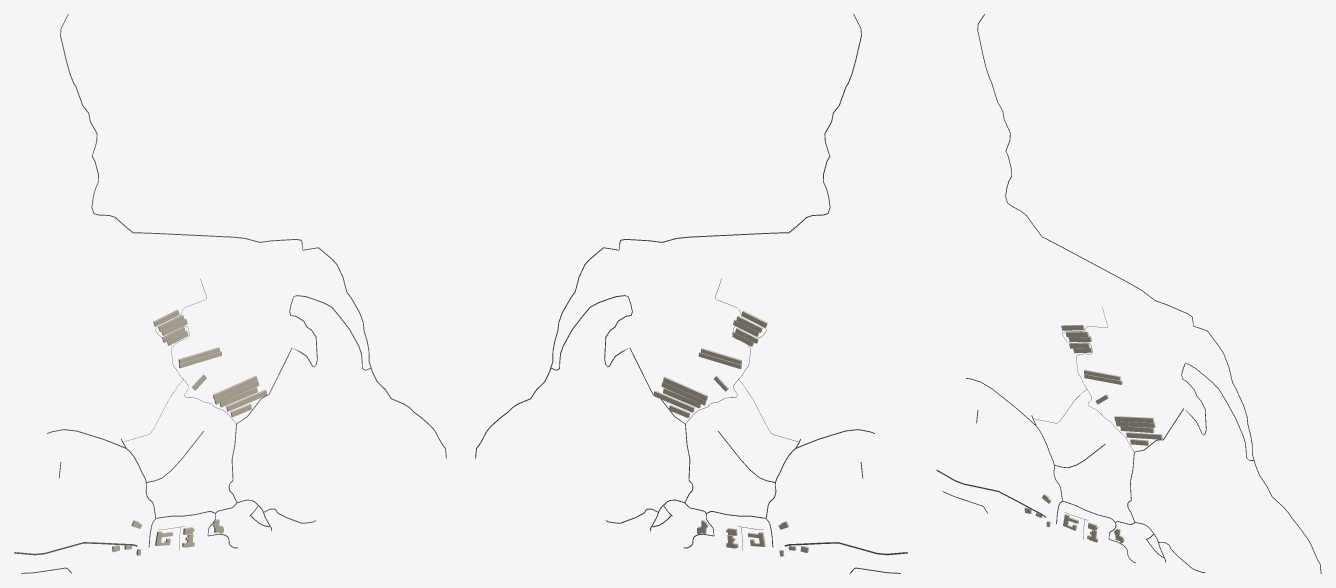
The model's file is historic-palestine-09_24_3513_3184.glb.
The picture shows the model from 3 angles, left to right: view 1: azimuth 30°, elevation 25°; view 2: azimuth 150°, elevation 25°; view 3: azimuth 330°, elevation 25°; orthographic projection. The views are drawn at different scales.
Parts seen in each view (by area): view 1: Road .002, Road Old Town; view 2: Road .002, Road Old Town; view 3: Road .002, Road Old Town.
Boxes of the visible parts, box(x1,y1,x2,y2) form: Road .002: box(60, 14, 446, 458); Road Old Town: box(228, 295, 371, 531); Road .002: box(475, 14, 861, 458); Road Old Town: box(551, 295, 693, 531); Road .002: box(977, 14, 1321, 573); Road Old Town: box(1127, 363, 1253, 562).
Bounding box in the file's own units: 1544 × 1963 × 9.09.
